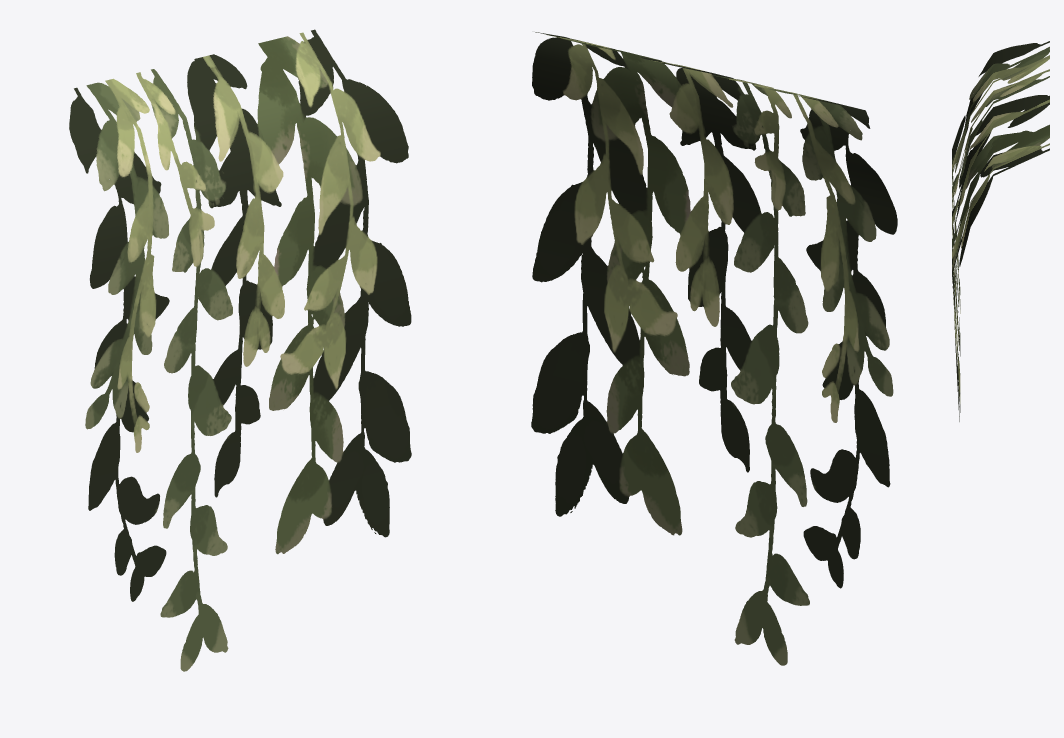
The model's file is Decal_Plant_1.FBX.
3 renders of one model, left to right at view 1: azimuth 30°, elevation 25°; view 2: azimuth 150°, elevation 25°; view 3: azimuth 270°, elevation 25°, orthographic. The views are drawn at different scales.
Parts seen in each view (by area): view 1: Plane011; view 2: Plane011; view 3: Plane011.
Boxes of the visible parts, <box> form: Plane011: <box>69,29,411,671</box>; Plane011: <box>531,32,897,665</box>; Plane011: <box>952,41,1049,421</box>.
Bounding box in the file's own units: 10.57 × 2.65 × 16.25.
